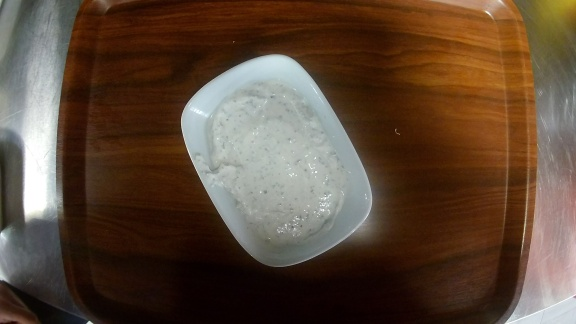haydari: (181, 54, 374, 267)
